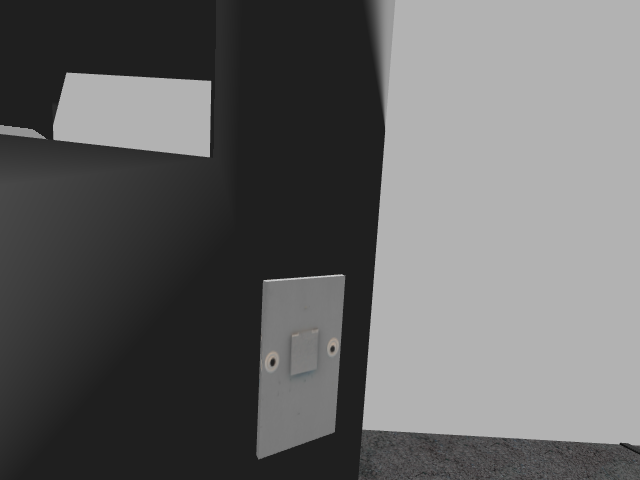facade: (264, 329, 338, 375)
